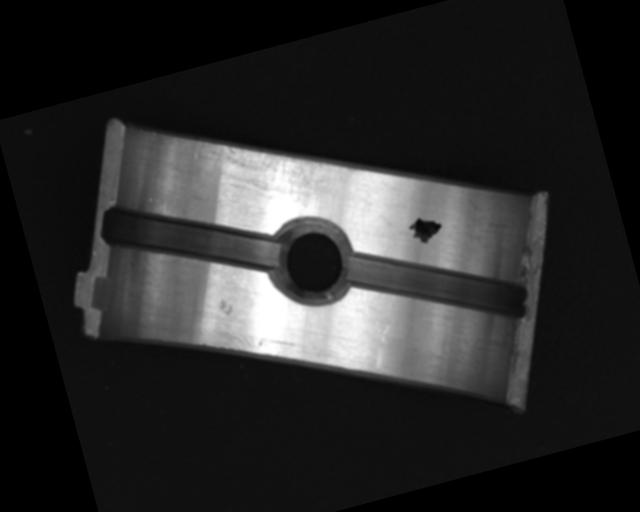blot: (405, 211, 446, 248)
bruise: (216, 296, 237, 319)
gap: (344, 214, 531, 356), (97, 169, 282, 305)
hole: (263, 208, 358, 313)
nick: (363, 311, 408, 369)
scratch: (193, 105, 350, 230)
